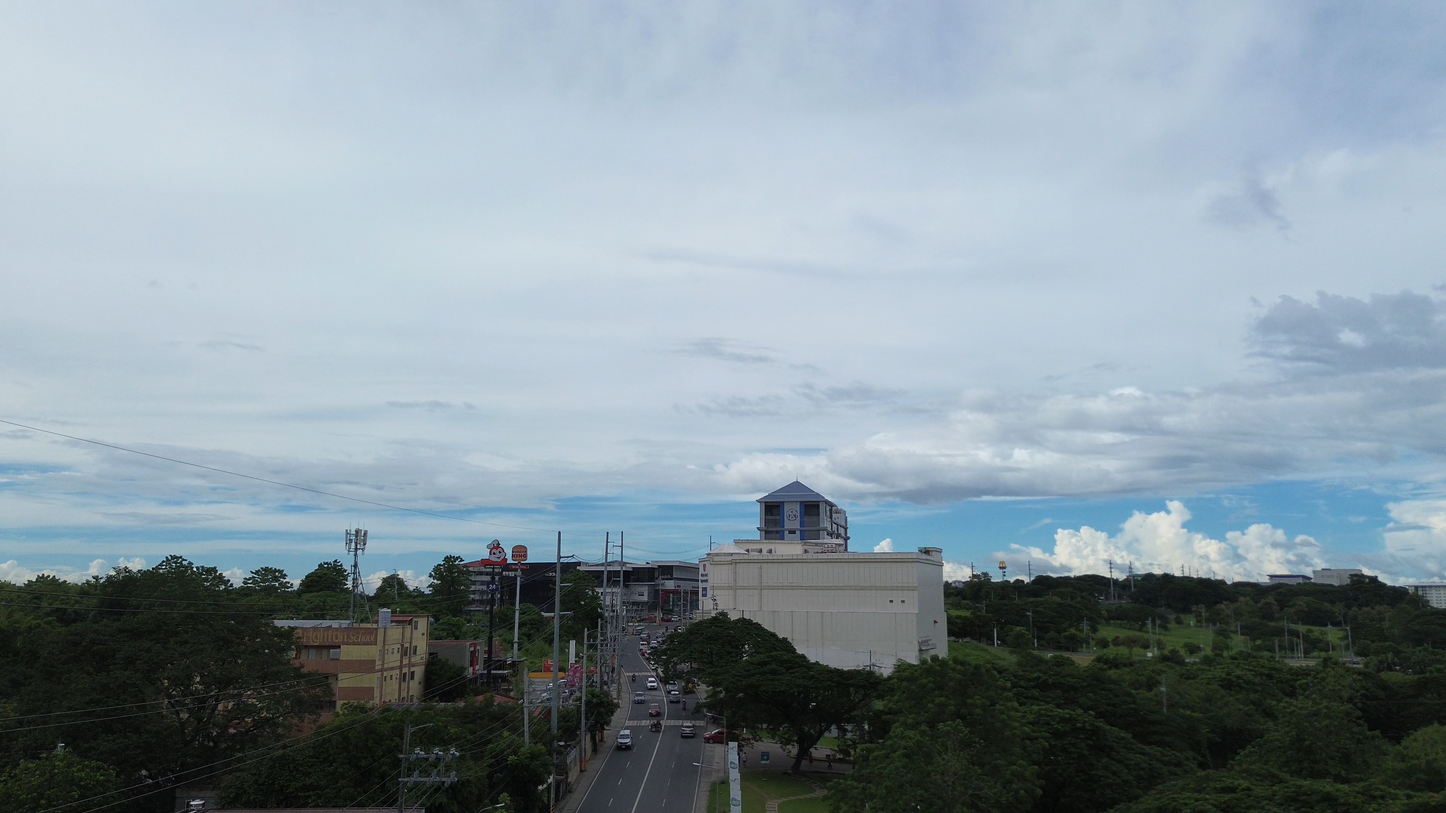car: (648, 703, 661, 716), (665, 681, 680, 691), (647, 678, 658, 690)
vehicle: (704, 728, 733, 743), (616, 729, 633, 750), (679, 722, 696, 738), (667, 690, 680, 703), (633, 691, 646, 703), (650, 720, 662, 732)
